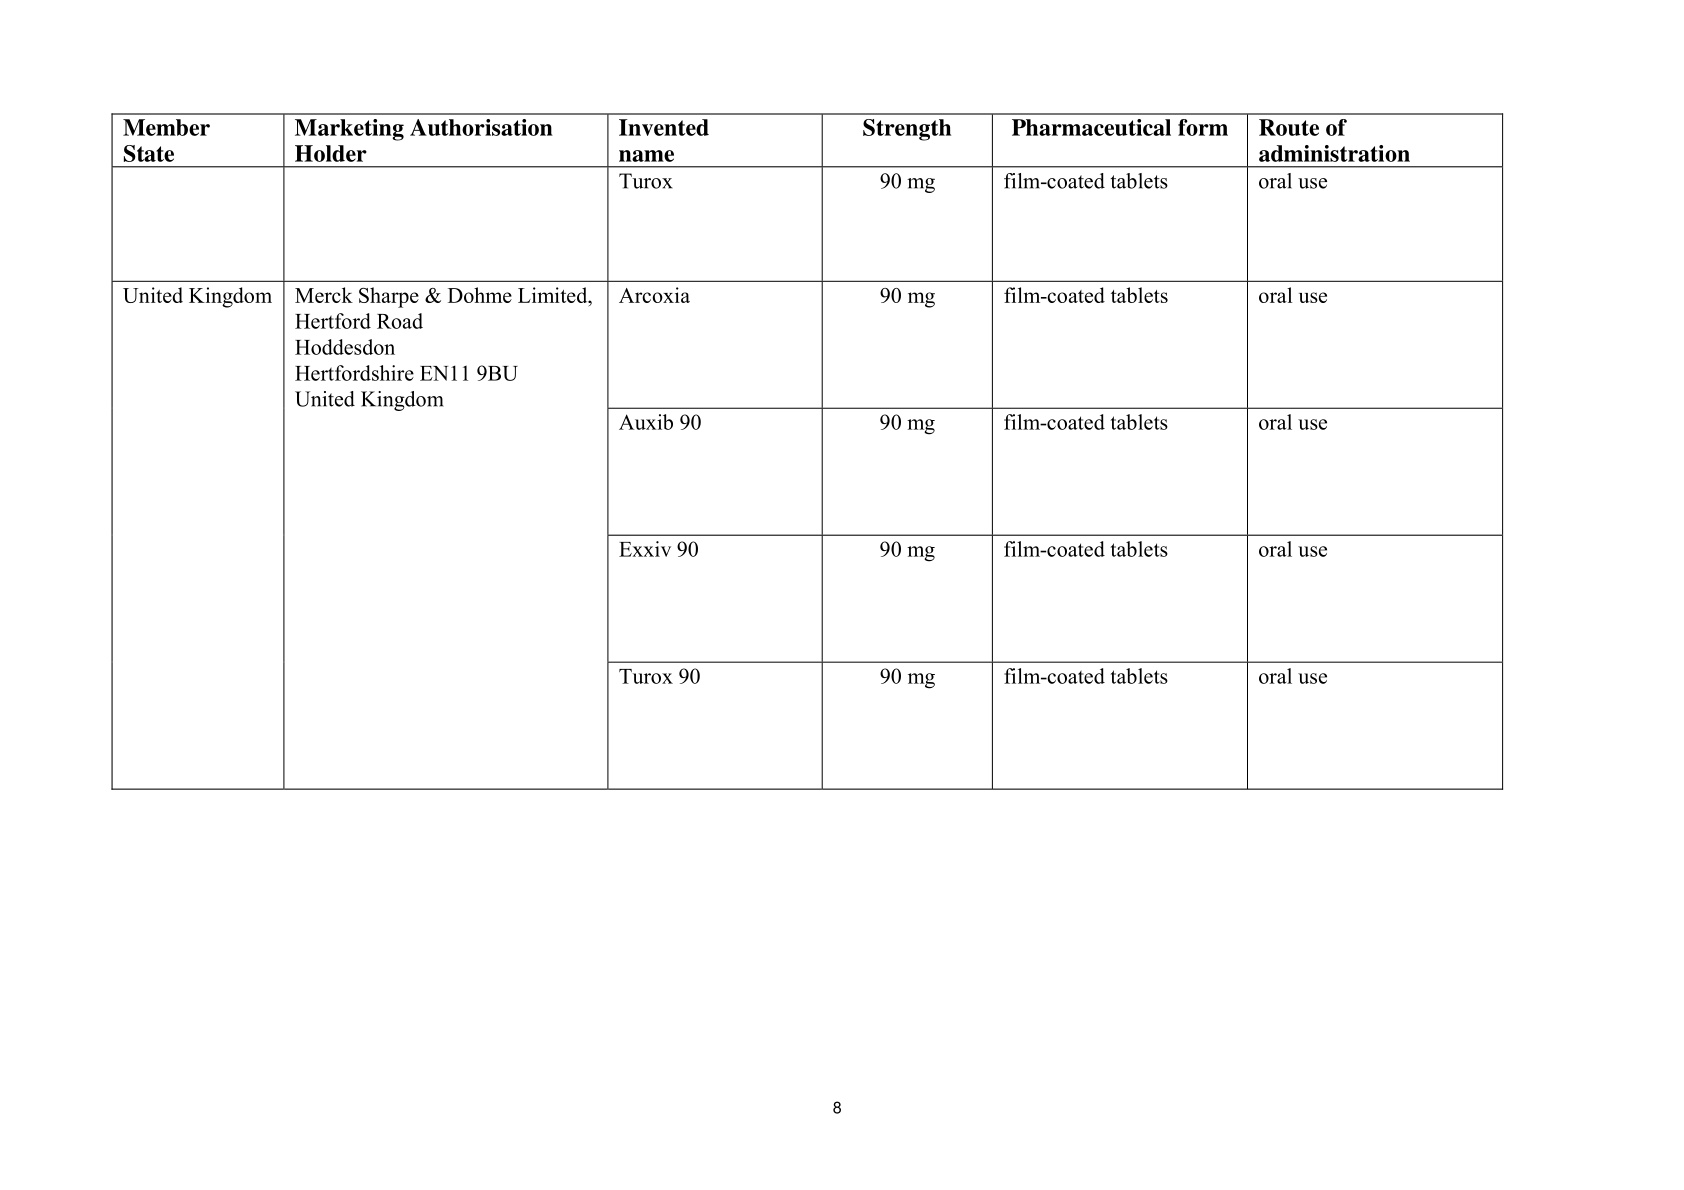merged_cells: (109, 111, 1504, 789)
